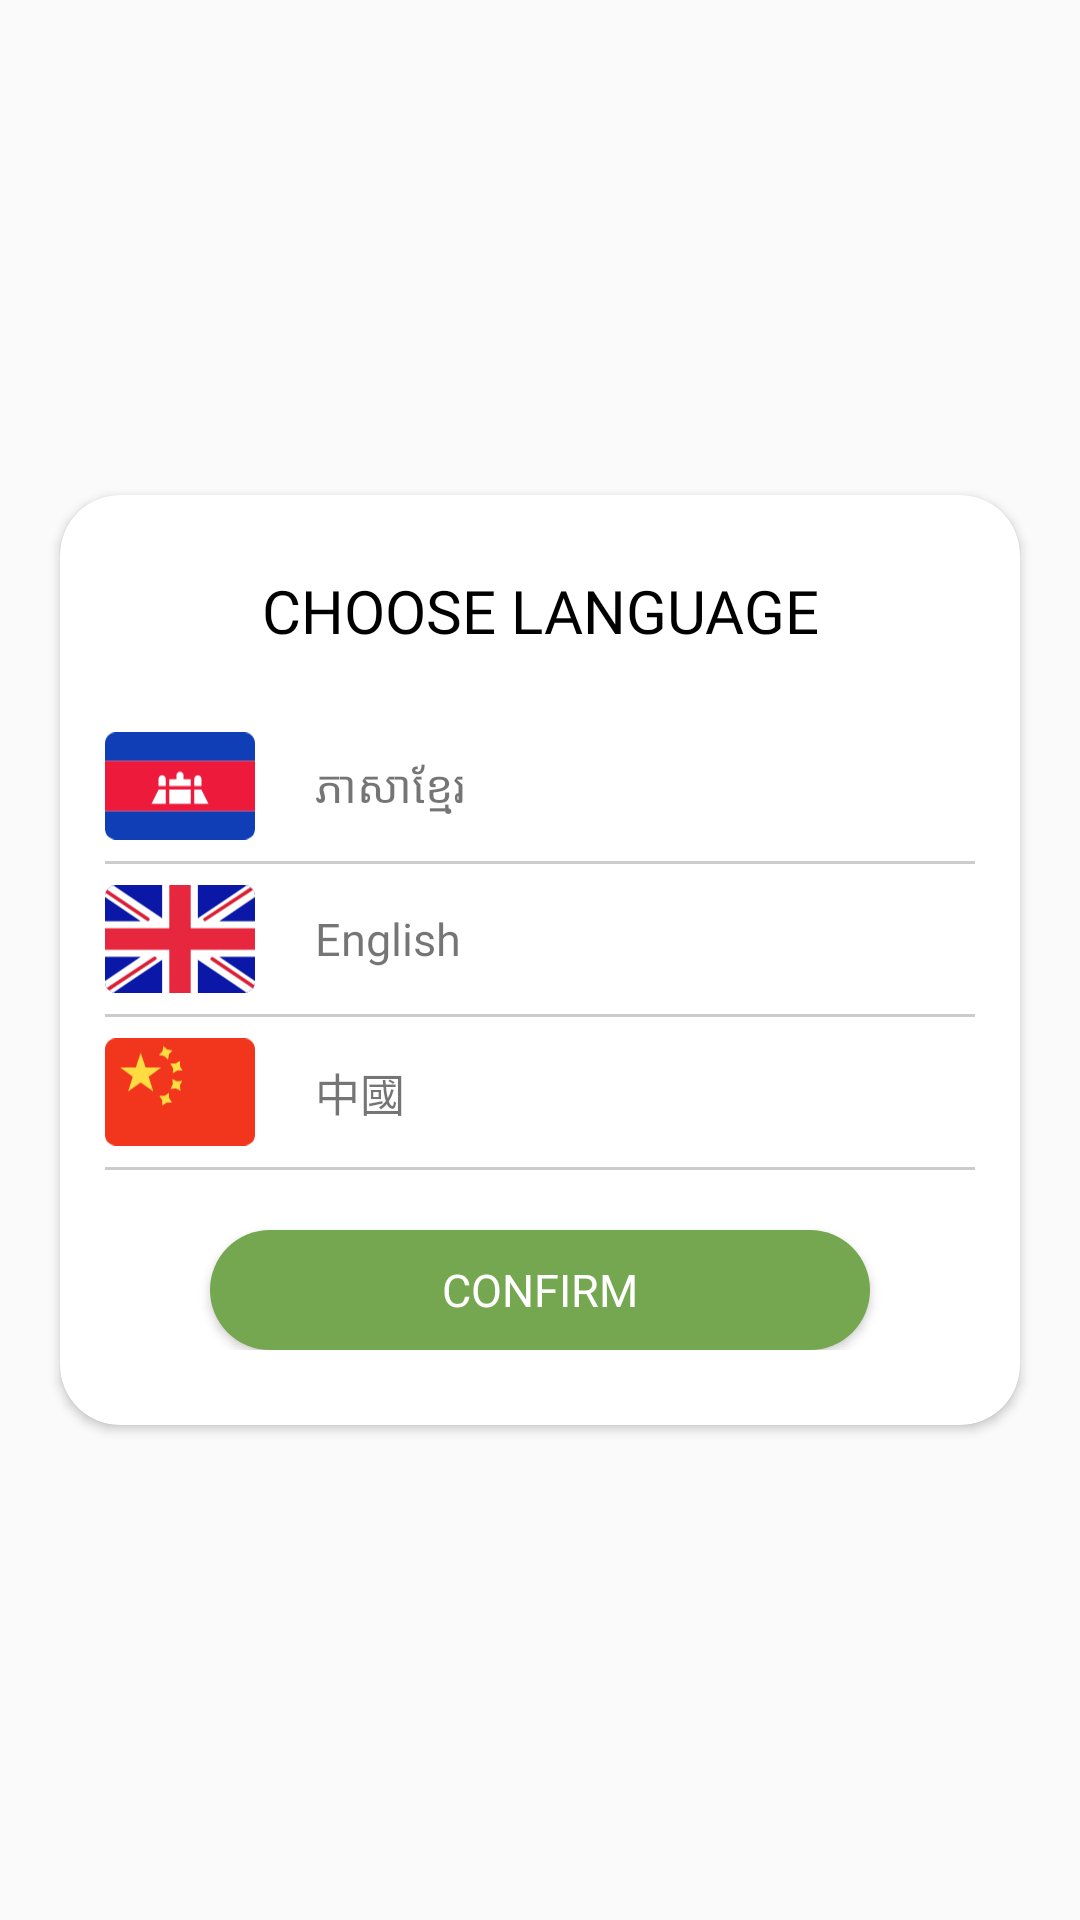

Locate icon controls on the screen. Image size 1080w x 1920h, boxes as bbox=(x1, y1, x2, y2).
china: bbox=(105, 1038, 255, 1146)
